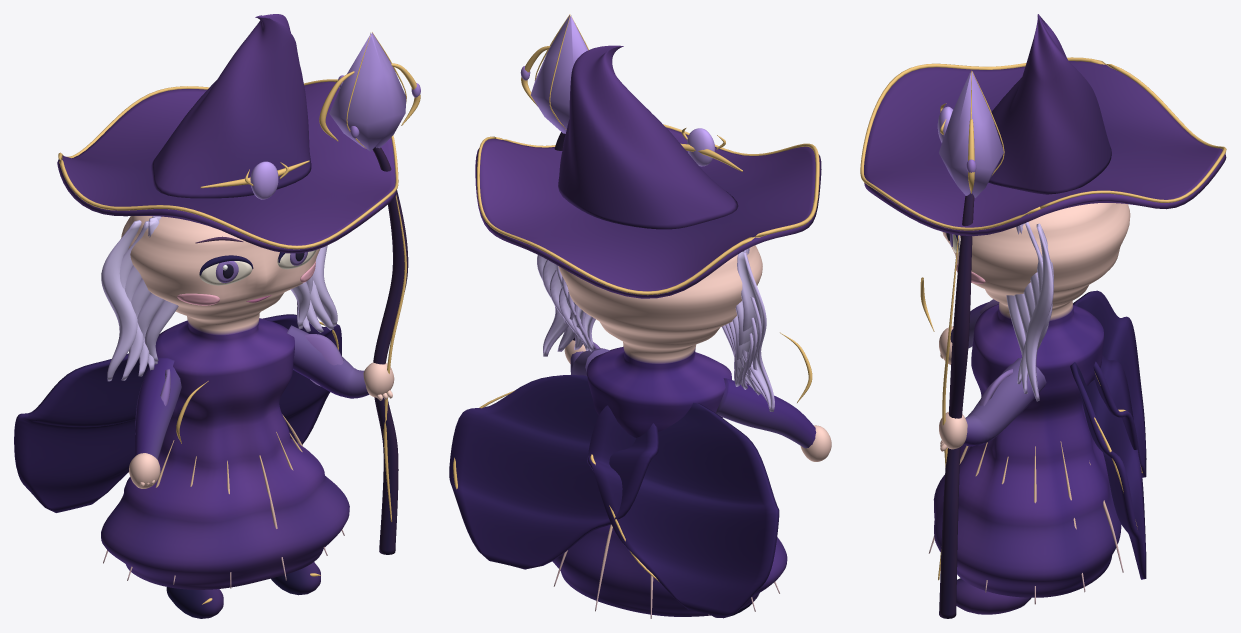
The picture shows the model from 3 angles, left to right: view 1: azimuth 30°, elevation 25°; view 2: azimuth 150°, elevation 25°; view 3: azimuth 270°, elevation 25°; orthographic projection. The views are drawn at different scales.
Parts seen in each view (by area): view 1: DoubleFight_64_witch; view 2: DoubleFight_64_witch; view 3: DoubleFight_64_witch.
Part boxes in pixels (x1,y1,x2,y2): DoubleFight_64_witch: (14,14,420,618); DoubleFight_64_witch: (449,14,831,618); DoubleFight_64_witch: (860,14,1226,618).
Bounding box in the file's own units: 2.71 × 4.38 × 2.46.
